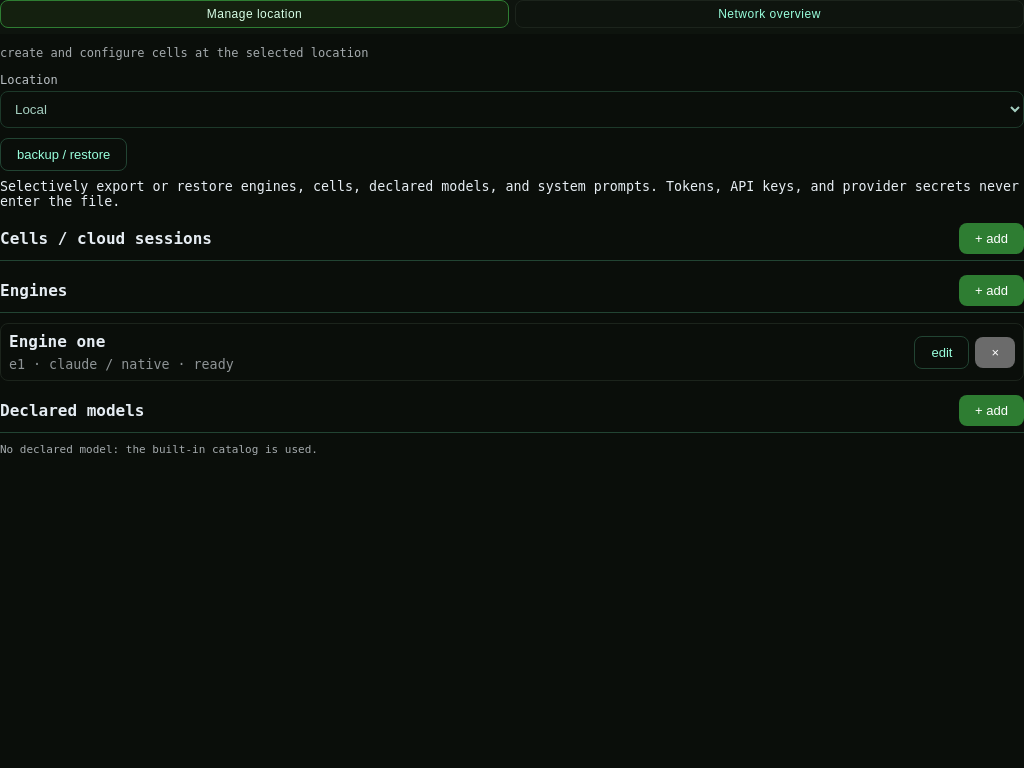
it: make it mine — il percorso reale › a valid value writes once, closes the dialog and reloads the view
Step 1. Click the button "edit" → {"x": 942, "y": 352}, box [914,336,969,369]
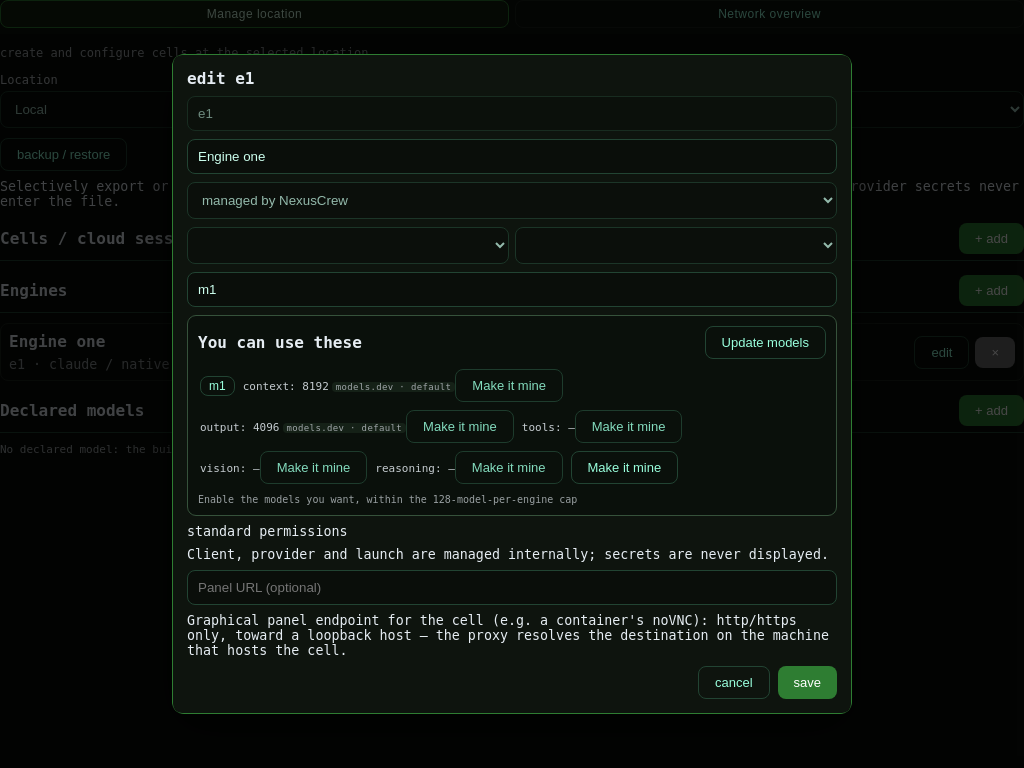
Result: the element "models" is shown at [187,315,837,516]
Step 2. Click the button with aria-label "Make it mine: m1" → {"x": 624, "y": 468}, box [570,451,678,484]
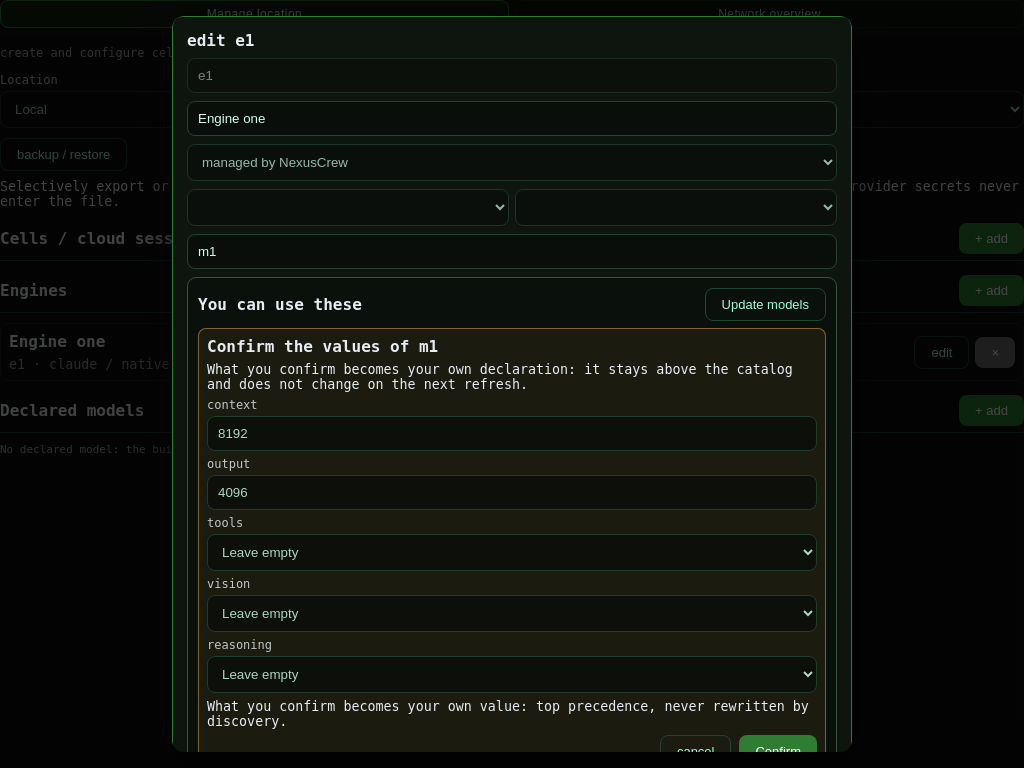
Step 3. Replace the text in the field labelled "context" with "9000" → {"x": 512, "y": 434}, box [207,416,817,451]
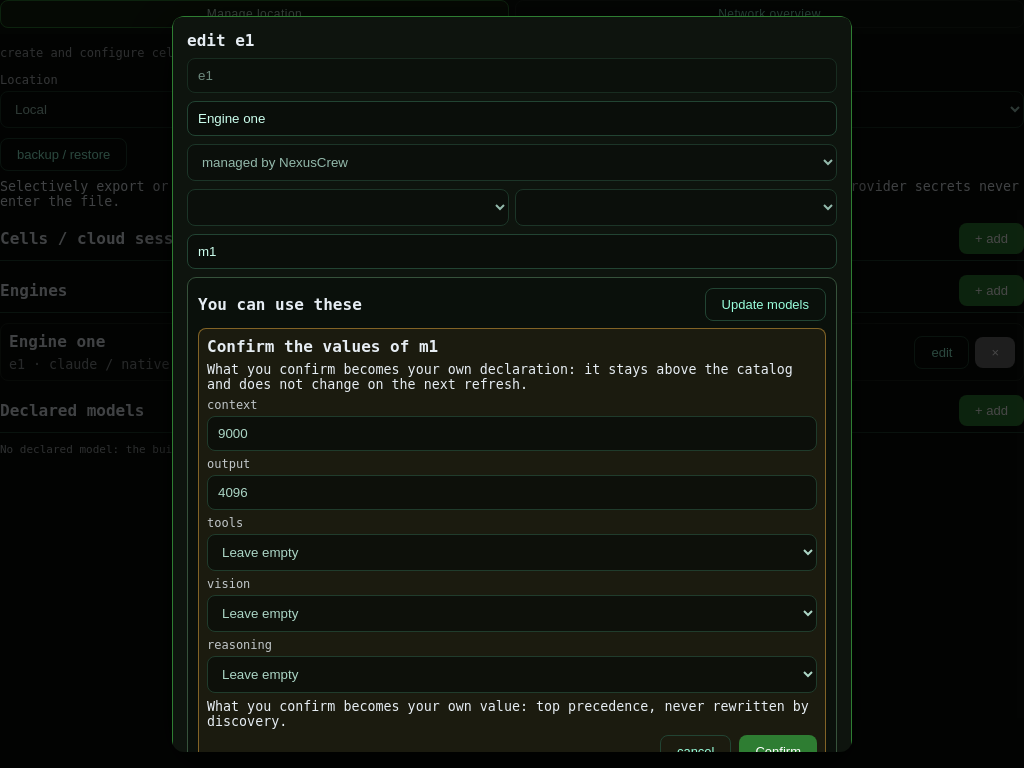
Step 4. Click the button "Confirm" → {"x": 778, "y": 752}, box [740,735,817,767]
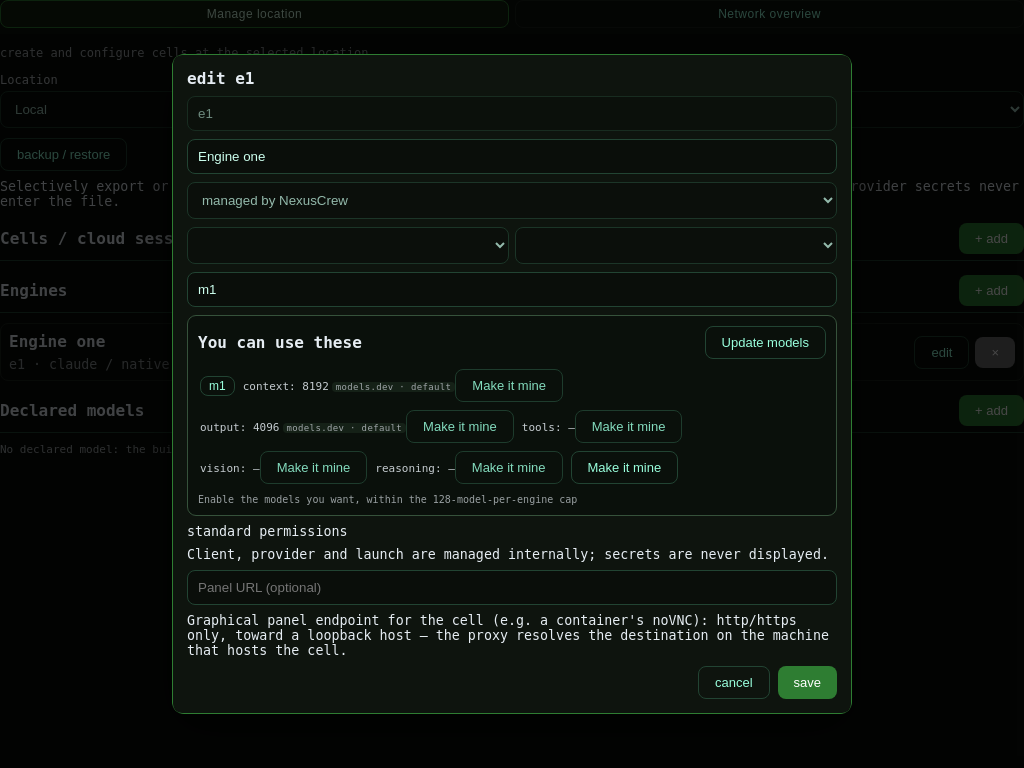
Result: the text "Confirm the values of m1" is gone
